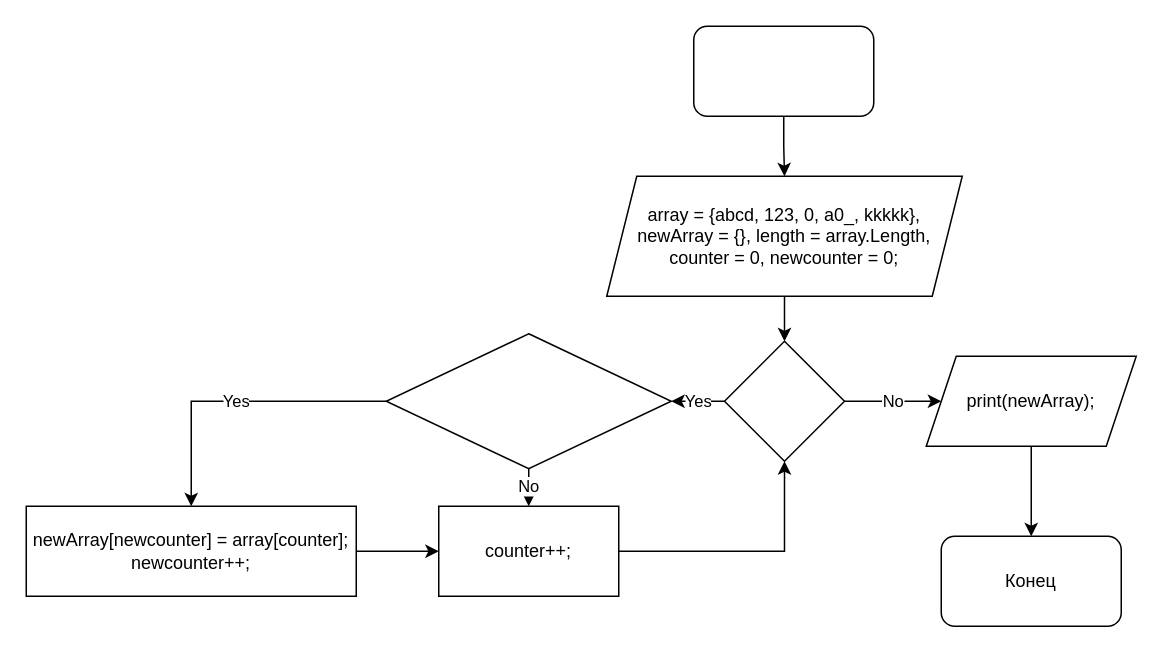
This 1163x653 diagram has some shape labels left out. Each missing label, with the centre of its shape:
"array[counter].Length<=3" belongs at pixel 528 400.
"counter < length" belongs at pixel 783 400.
"Начало" belongs at pixel 783 70.
